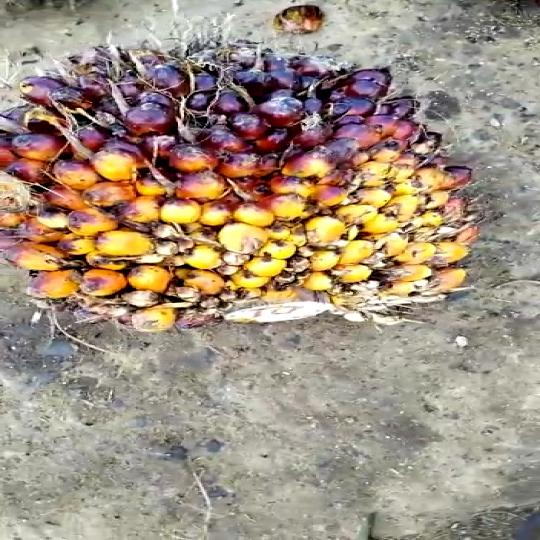kurang masak: (0, 29, 512, 331)
